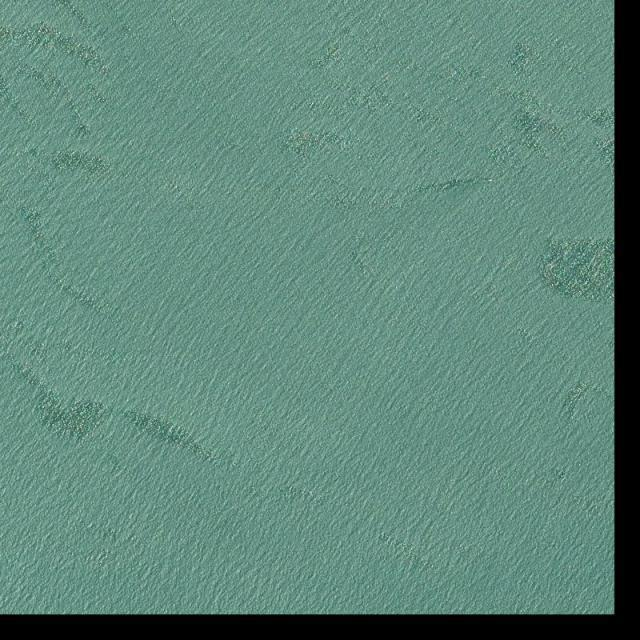ship: (487, 179, 494, 182)
